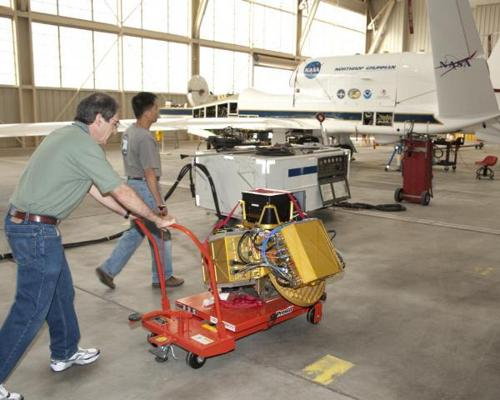person: (1, 91, 179, 400)
